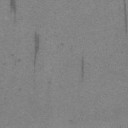red iron: (33, 32, 40, 67), (9, 0, 17, 23), (123, 0, 128, 34), (81, 56, 84, 79)
